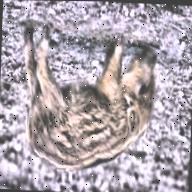boar: (18, 24, 161, 177)
